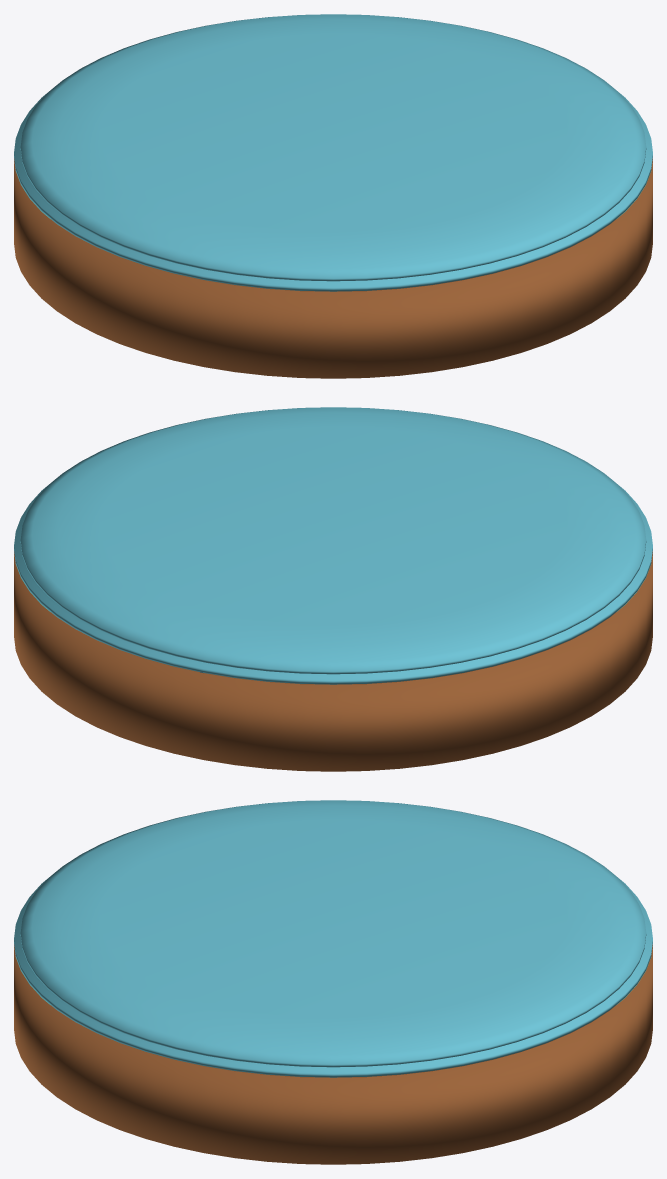
The model's file is clock_c.fbx.
3 views of the same model, one above another, from view 1: azimuth 30°, elevation 25°; view 2: azimuth 150°, elevation 25°; view 3: azimuth 270°, elevation 25° (orthographic).
Visible parts, largest first — view 1: Cylinder; view 2: Cylinder; view 3: Cylinder.
Part boxes in pixels (x1=…): Cylinder: x1=14, y1=14, x2=652, y2=378; Cylinder: x1=14, y1=407, x2=652, y2=771; Cylinder: x1=14, y1=800, x2=652, y2=1164.
Bounding box in the file's own units: 200 × 38.29 × 200.
